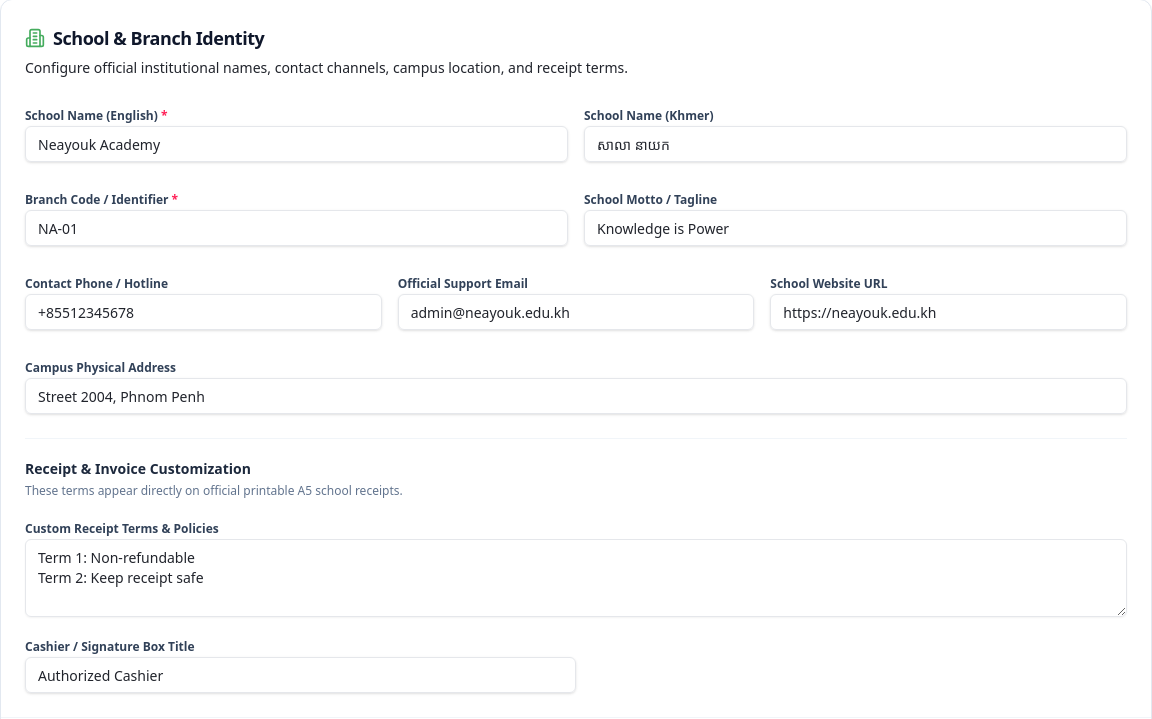
Test: SchoolProfileCard › submits updated profile data successfully and shows success message
Step 1. Replace the text in the field labelled "School Name (English) *" with "Neayouk International School" → (296, 144), box [25,126,568,162]
(page scrolled)
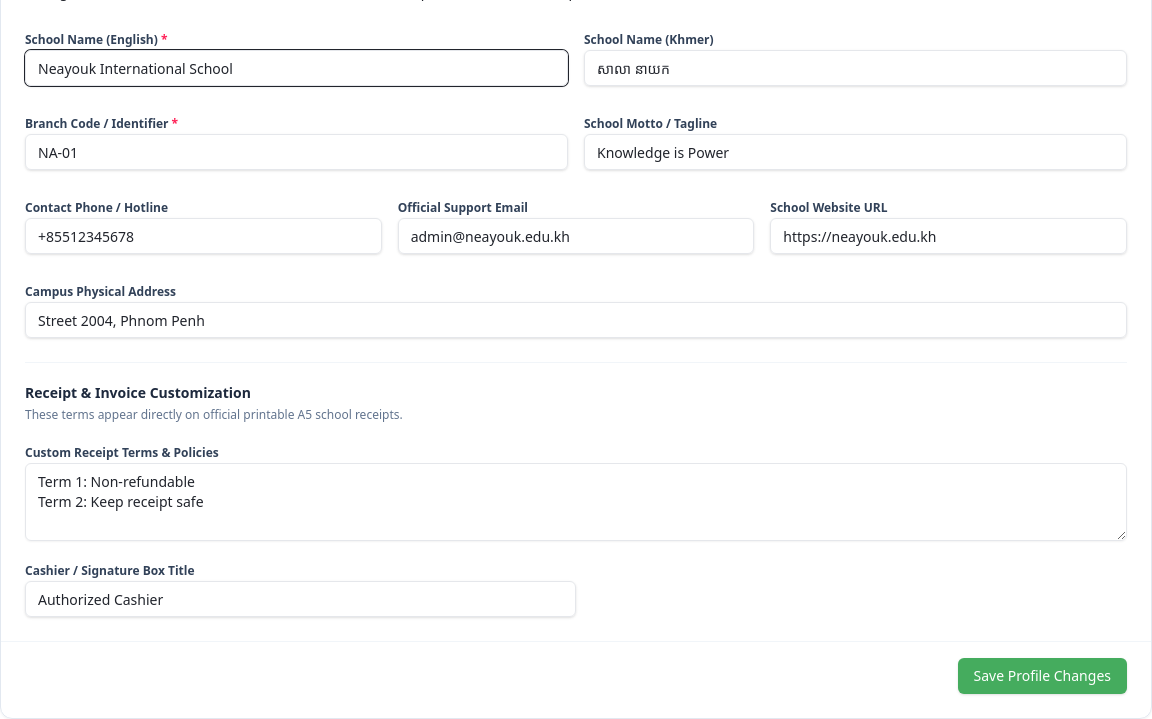
Step 2. Click the button "Save Profile Changes" → (1042, 676), box [958,658,1127,694]
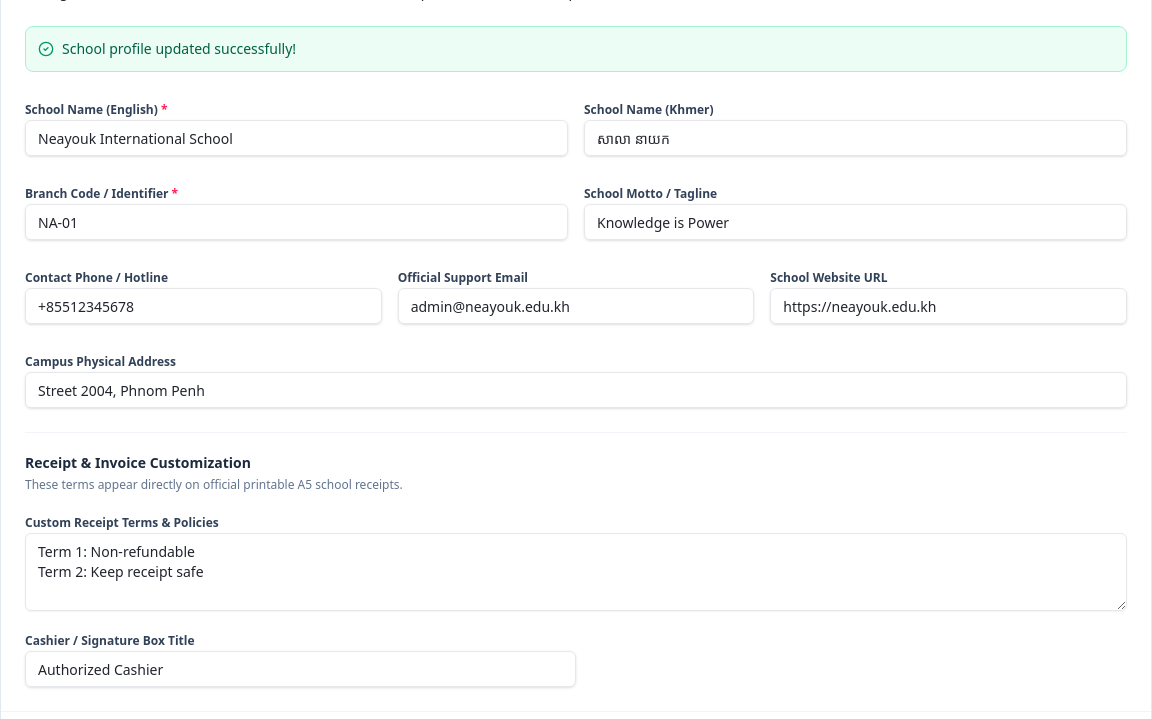
Check: the text "School profile updated successfully!" is shown, box [62,39,296,59]
